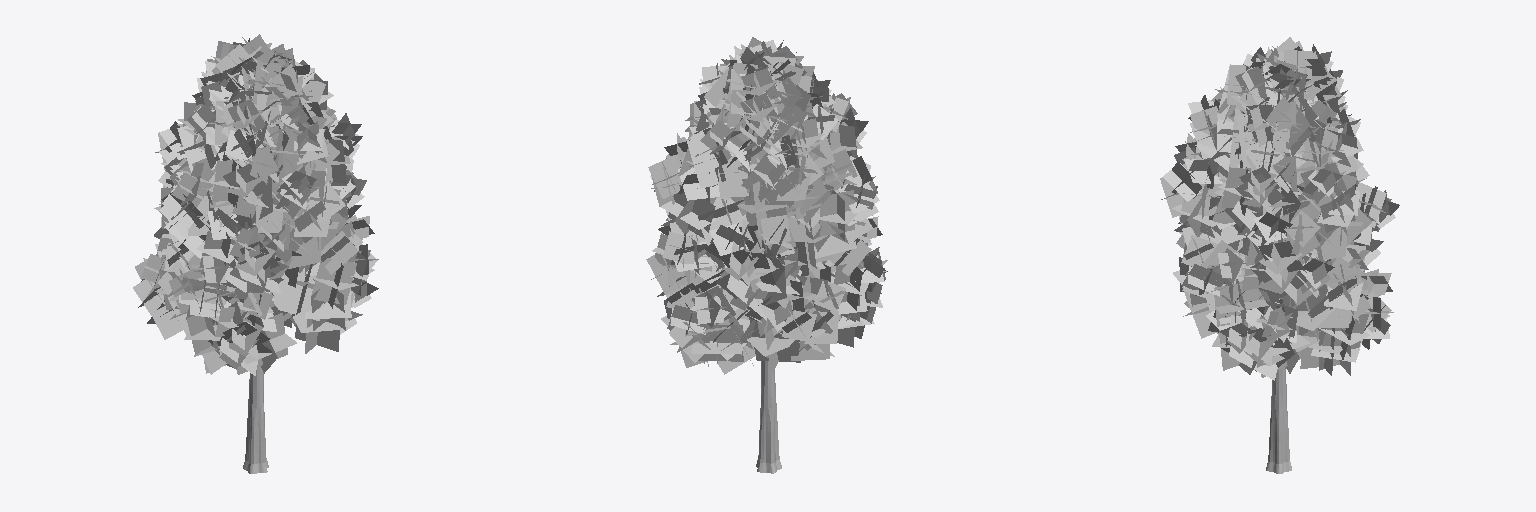
Rendered from tree1.obj.
3 views of the same model, side by side, from view 1: azimuth 30°, elevation 25°; view 2: azimuth 150°, elevation 25°; view 3: azimuth 270°, elevation 25° (orthographic).
Visible parts, largest first — view 1: tree4_leaves_0, tree4_bark_0; view 2: tree4_leaves_0, tree4_bark_0; view 3: tree4_leaves_0, tree4_bark_0.
Part boxes in pixels (left/top/right/bottom): tree4_leaves_0: left=133, top=34, right=378, bottom=375; tree4_bark_0: left=186, top=126, right=330, bottom=473; tree4_leaves_0: left=646, top=37, right=887, bottom=374; tree4_bark_0: left=680, top=159, right=847, bottom=473; tree4_leaves_0: left=1160, top=37, right=1399, bottom=380; tree4_bark_0: left=1202, top=105, right=1336, bottom=473.
Bounding box in the file's own units: 19.72 × 37.08 × 19.11.